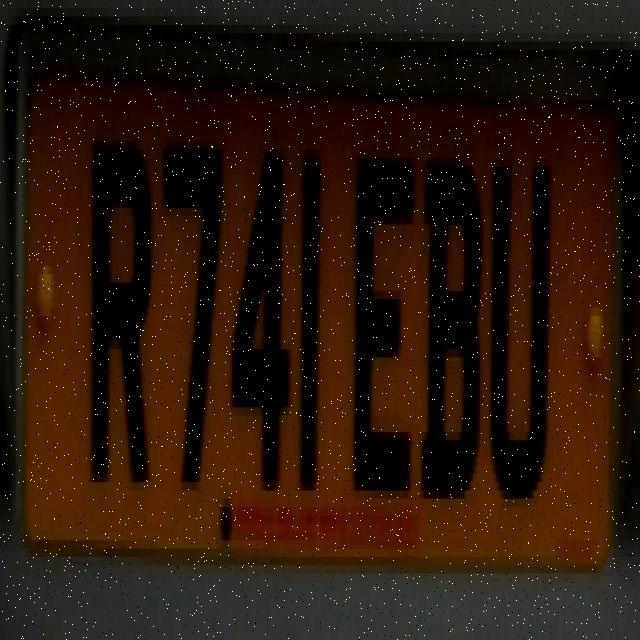LicensePlate: (21, 31, 617, 581)
